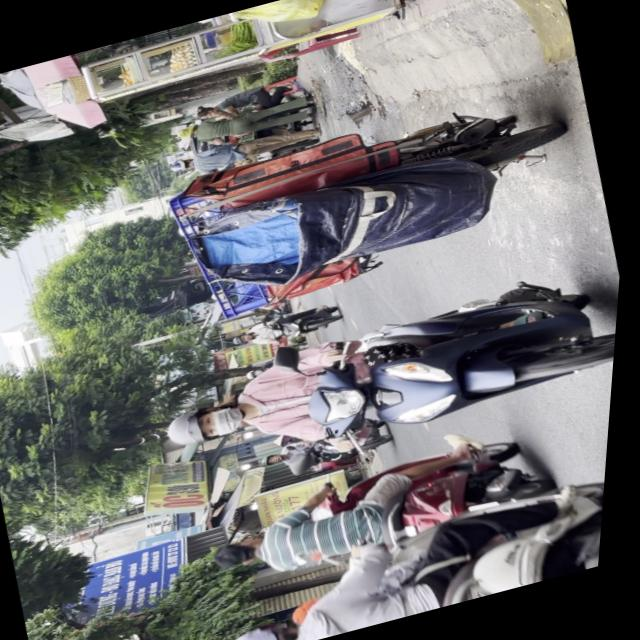helmet: (166, 397, 255, 454), (231, 614, 313, 640)
licenseplate: (150, 255, 625, 502), (213, 460, 613, 640), (202, 421, 572, 604)
motorcyclist: (216, 532, 274, 574)
